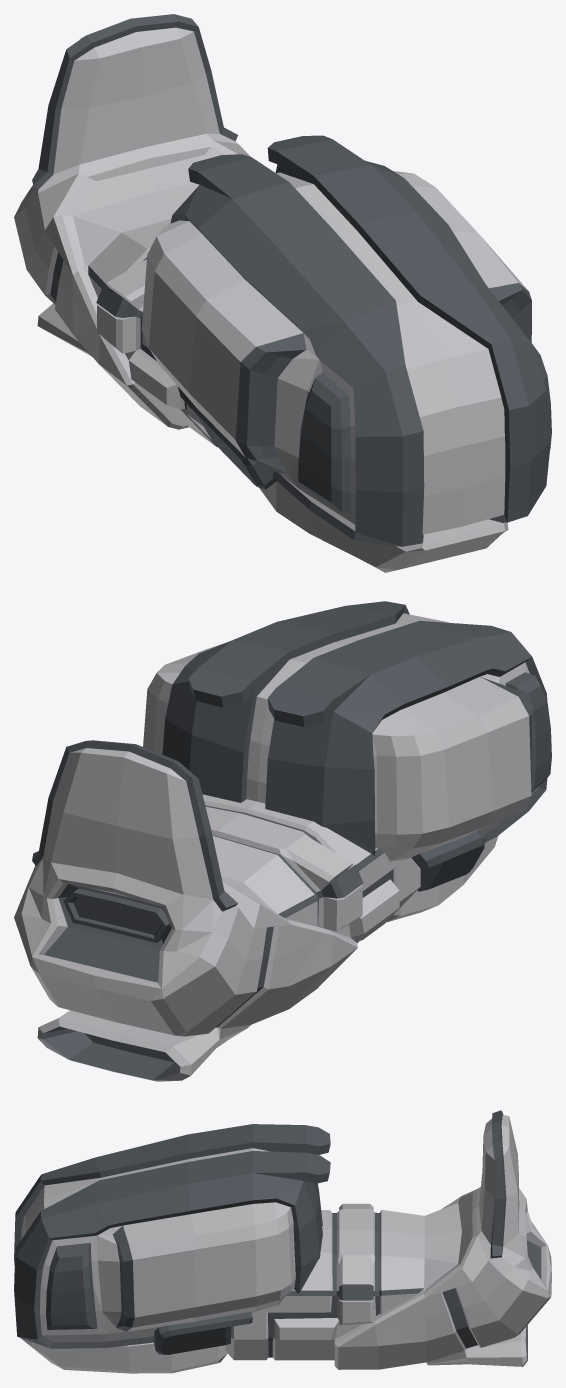
File: Personal_Vehicle_01_Neutral.fbx
The picture shows the model from 3 angles, top to bottom: view 1: azimuth 30°, elevation 25°; view 2: azimuth 150°, elevation 25°; view 3: azimuth 270°, elevation 25°; orthographic projection. The views are drawn at different scales.
Visible parts, largest first — view 1: Personal_Vehicle_01_Neutral; view 2: Personal_Vehicle_01_Neutral; view 3: Personal_Vehicle_01_Neutral.
Part boxes in pixels (box(x1,y1,x2,y2)): Personal_Vehicle_01_Neutral: box(14, 14, 551, 572); Personal_Vehicle_01_Neutral: box(14, 601, 551, 1081); Personal_Vehicle_01_Neutral: box(14, 1110, 551, 1373).
Size of the model in its own units: 141 by 143 by 300.
Materials: 2 (2 with a texture image).
